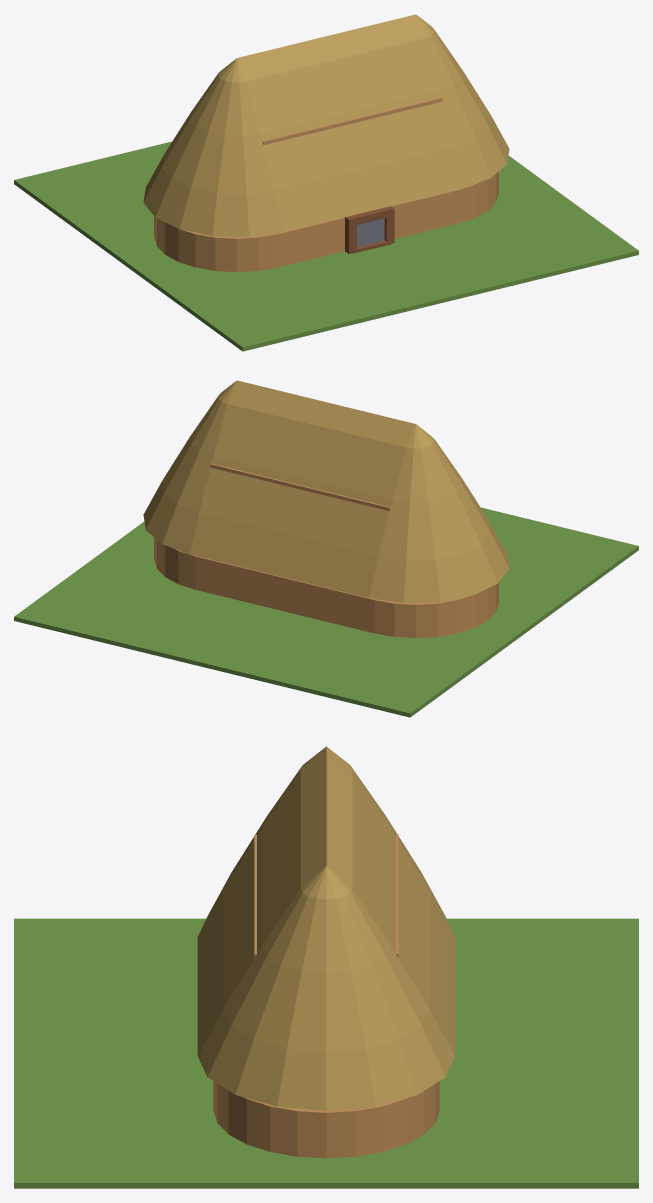
File: house-2x2-1f-maloca-a.glb
3 renders of one model, top to bottom at view 1: azimuth 30°, elevation 25°; view 2: azimuth 150°, elevation 25°; view 3: azimuth 270°, elevation 25°, orthographic. The views are drawn at different scales.
Visible parts, largest first — view 1: house-2x2-1f-maloca-a; view 2: house-2x2-1f-maloca-a; view 3: house-2x2-1f-maloca-a.
Boxes of the visible parts, box(x1,y1,x2,y2) form: house-2x2-1f-maloca-a: box(14, 14, 638, 351); house-2x2-1f-maloca-a: box(14, 380, 638, 717); house-2x2-1f-maloca-a: box(14, 746, 638, 1188).
Bounding box in the file's own units: 1.99 × 0.88 × 1.99.
Materials: 1 (1 with a texture image).
